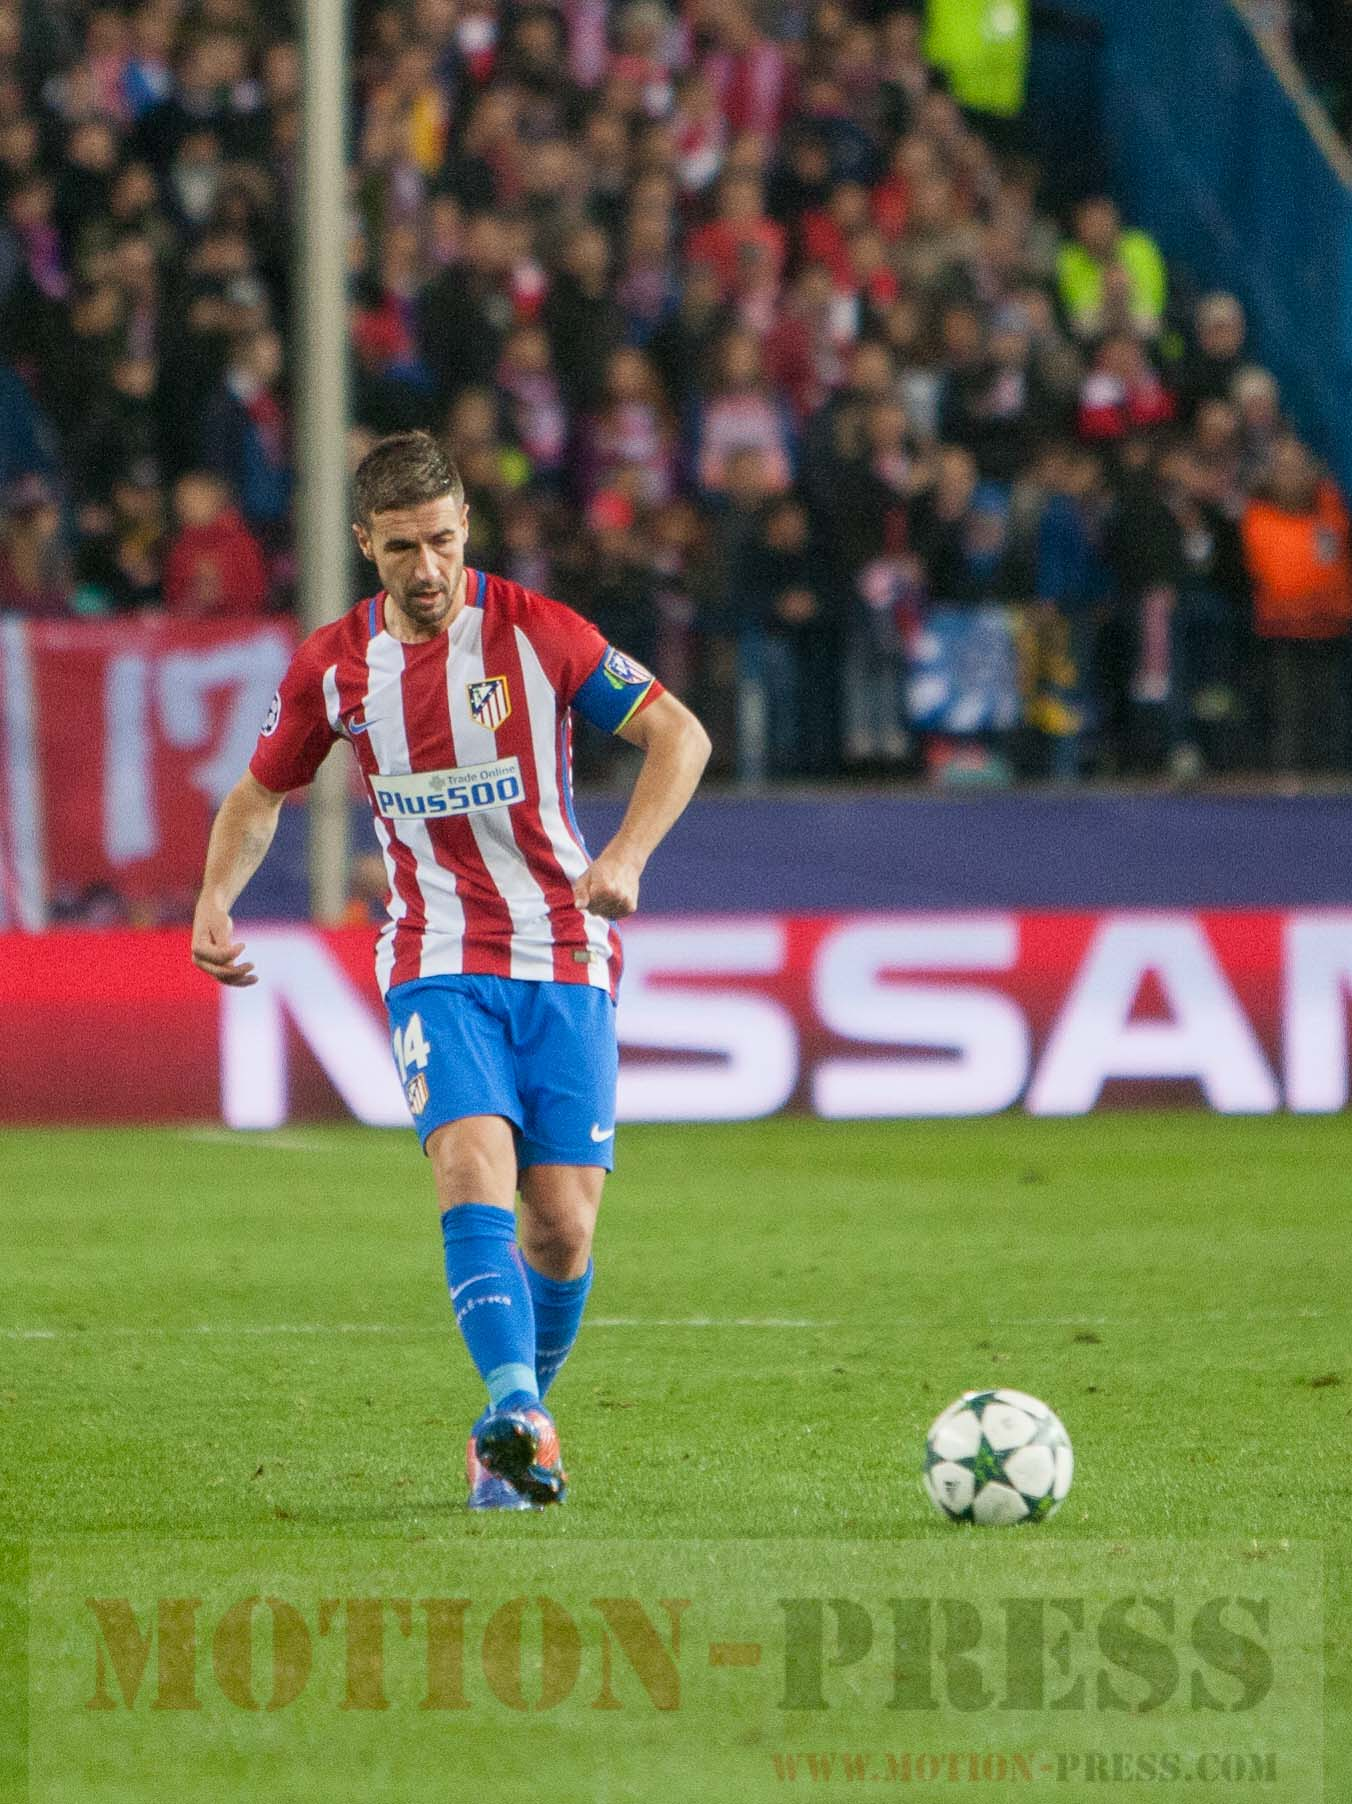soccer player: (172, 425, 726, 1531)
soccerball: (917, 1386, 1081, 1542)
